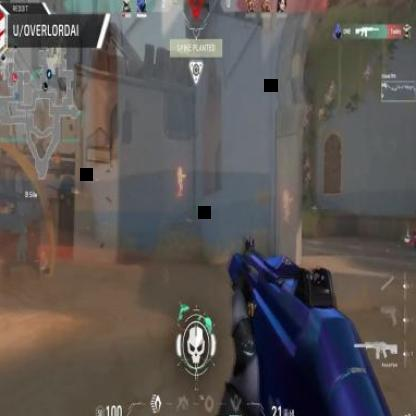enemy: (281, 190, 292, 222), (177, 166, 185, 200)
enemy_head: (284, 190, 290, 198), (178, 167, 182, 173)
